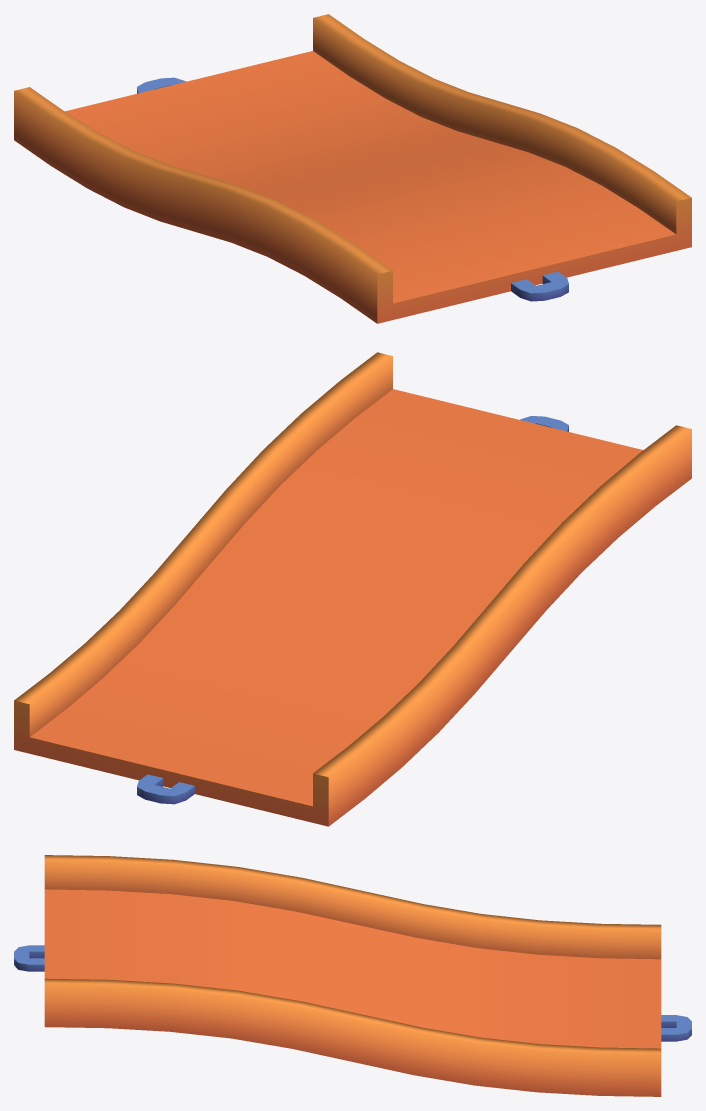
File: track-wide-straight-hill-complete-half.glb
The picture shows the model from 3 angles, top to bottom: view 1: azimuth 30°, elevation 25°; view 2: azimuth 150°, elevation 25°; view 3: azimuth 270°, elevation 25°; orthographic projection. The views are drawn at different scales.
Visible parts, largest first — view 1: track-wide-straight-hill-complete-half; view 2: track-wide-straight-hill-complete-half; view 3: track-wide-straight-hill-complete-half.
Part boxes in pixels (box(x1,y1,x2,y2)): track-wide-straight-hill-complete-half: box(14, 14, 691, 323); track-wide-straight-hill-complete-half: box(14, 352, 691, 826); track-wide-straight-hill-complete-half: box(14, 855, 691, 1096).
Size of the model in its own units: 2 by 0.7998 by 4.4.
1 material, 1 textured.
